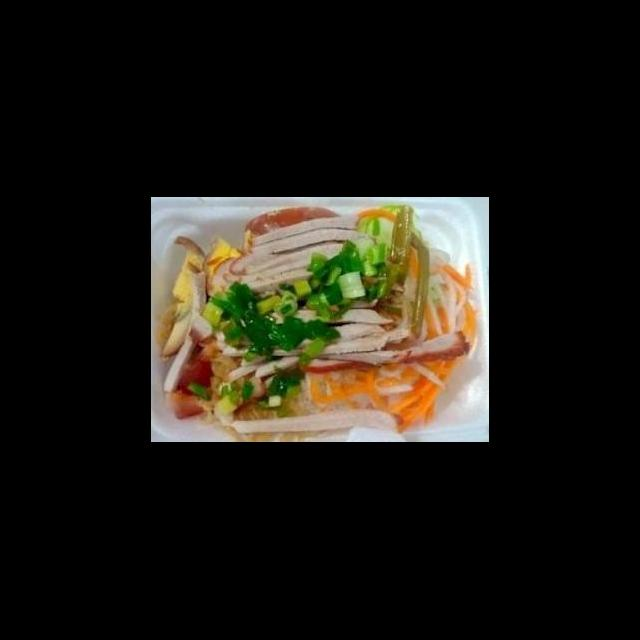dua chua: (384, 204, 479, 344), (309, 356, 459, 434)
suon: (221, 294, 412, 386), (220, 213, 383, 300), (296, 328, 475, 377)
trung: (159, 248, 211, 360), (200, 237, 255, 304)
